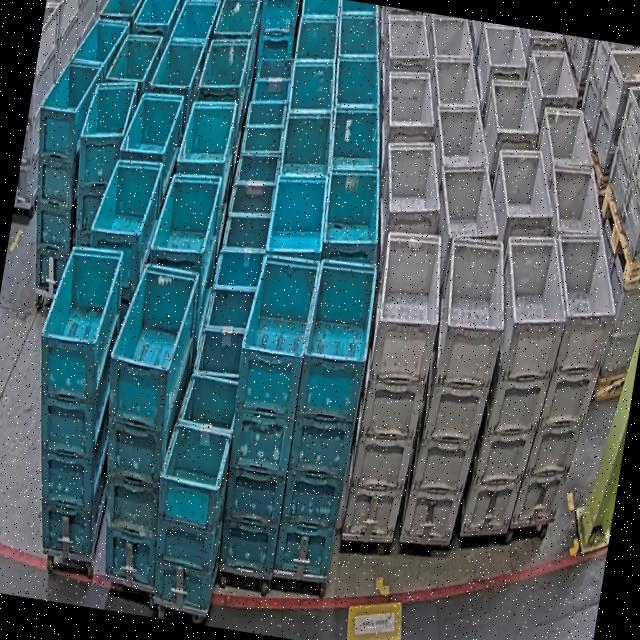4G: (398, 230, 519, 554), (458, 230, 580, 550), (508, 228, 628, 545), (340, 224, 453, 550)
B4: (74, 256, 205, 596), (5, 240, 142, 565), (206, 250, 324, 582), (270, 255, 382, 588), (11, 55, 105, 300), (61, 73, 141, 260)
B8: (138, 366, 246, 614)
